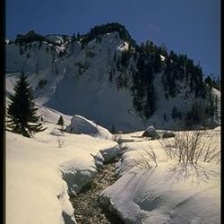neutral: (10, 1, 222, 159)
